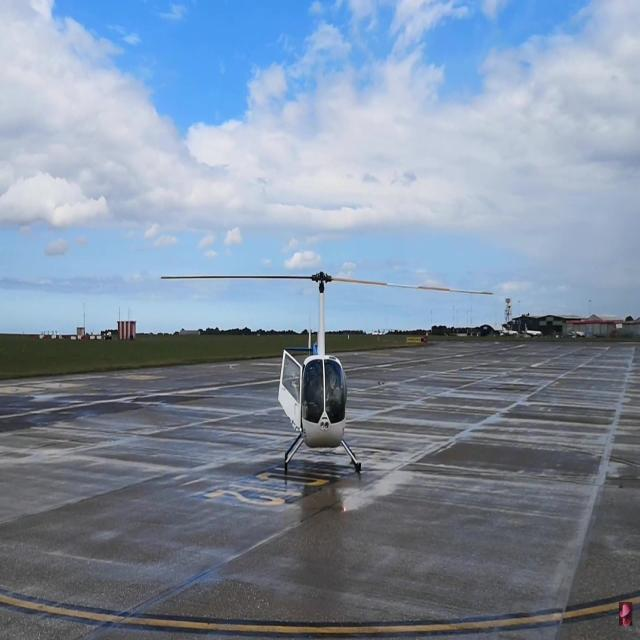CIV_HELO: (276, 268, 362, 474)
